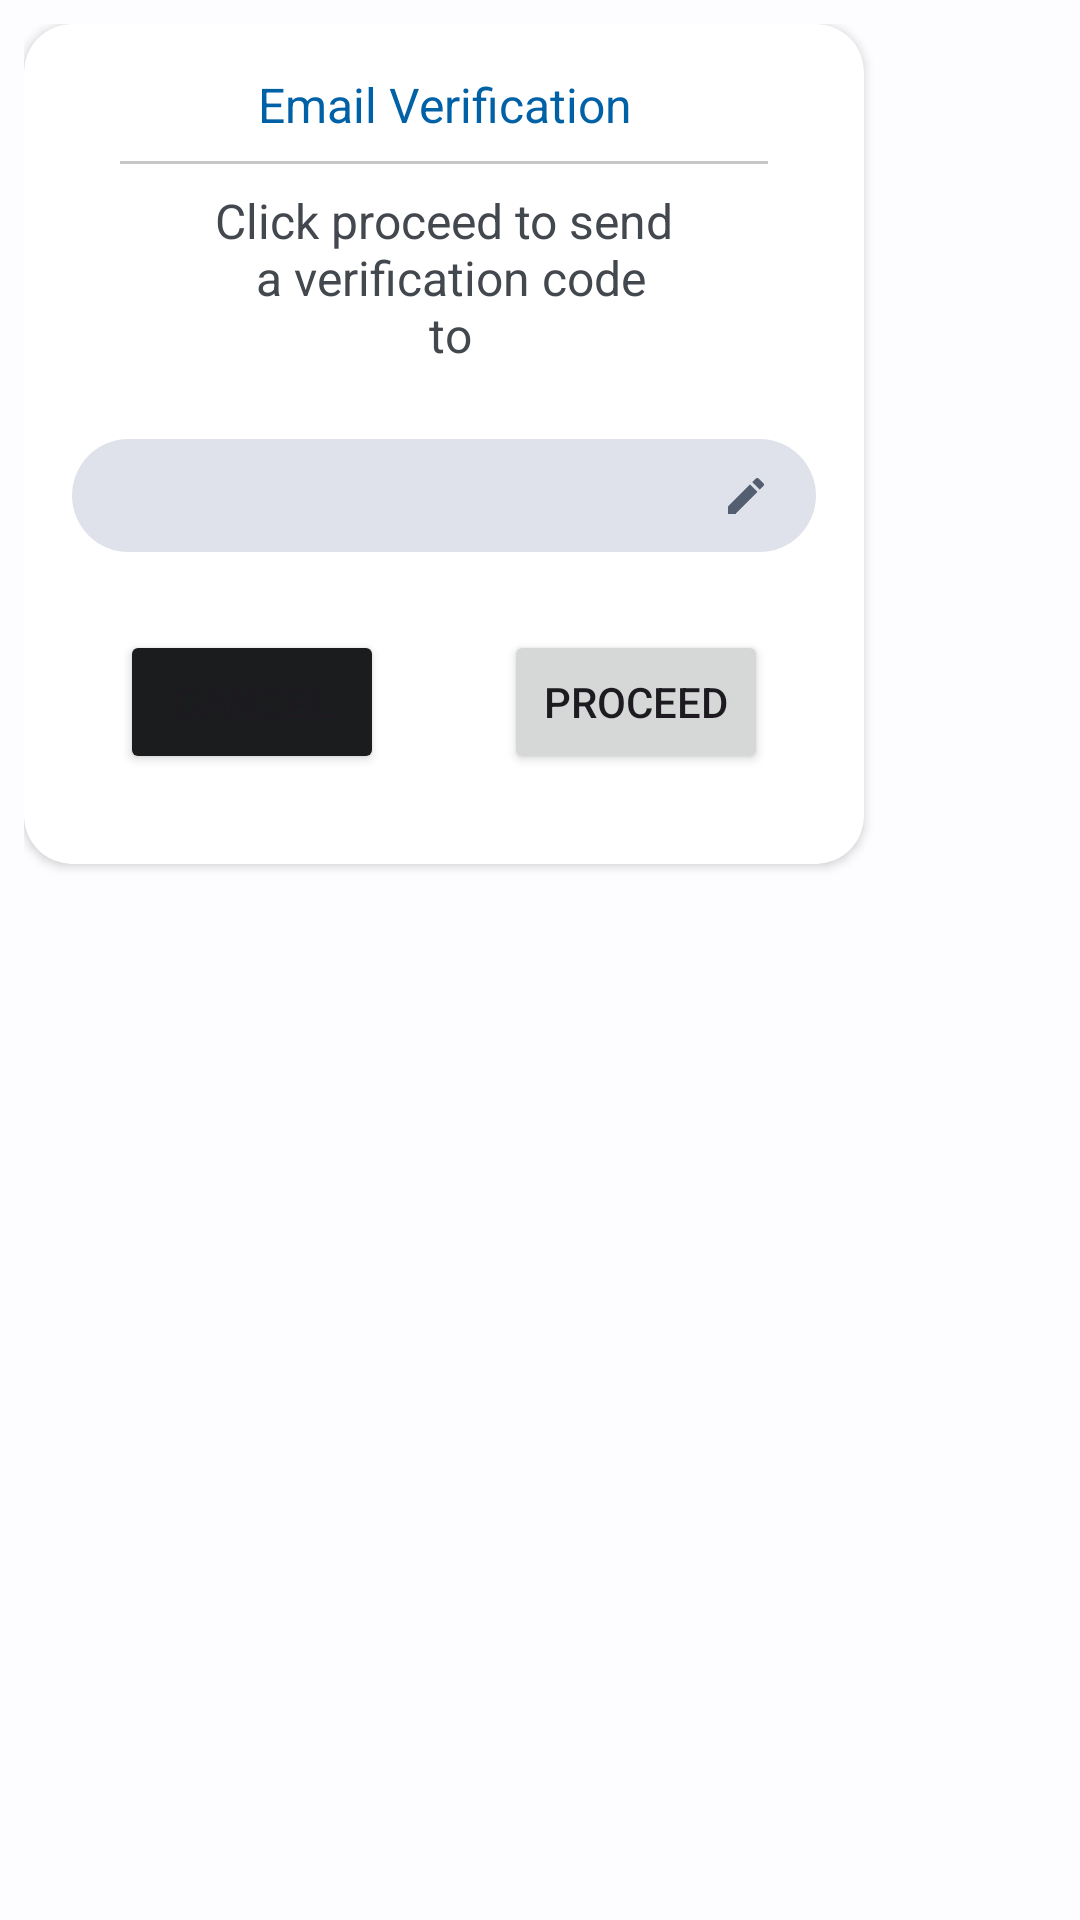

Icon click points for this 1080px×1920px phone screenshot, format (x,y):
edit pencil: (746,496)
